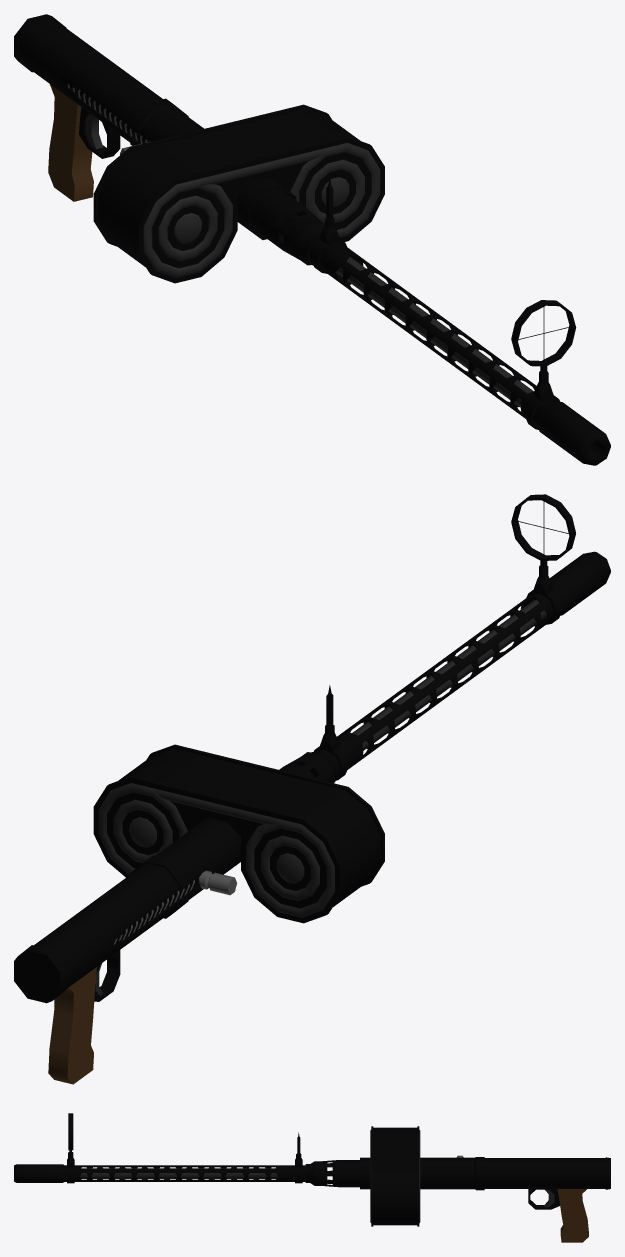
3 renders of one model, top to bottom at view 1: azimuth 30°, elevation 25°; view 2: azimuth 150°, elevation 25°; view 3: azimuth 270°, elevation 25°, orthographic. The views are drawn at different scales.
Visible parts, largest first — view 1: Cylinder.003; view 2: Cylinder.003; view 3: Cylinder.003.
Boxes of the visible parts, x1,y1,x2,y2 form: Cylinder.003: (14, 14, 610, 465); Cylinder.003: (14, 494, 610, 1084); Cylinder.003: (14, 1113, 610, 1242).
Size of the model in its own units: 1.5 by 1.37 by 5.9.
